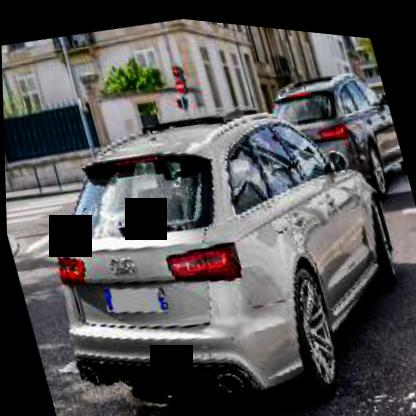not_emergency: (10, 47, 415, 415)
